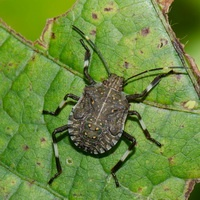insect: (67, 21, 199, 195)
